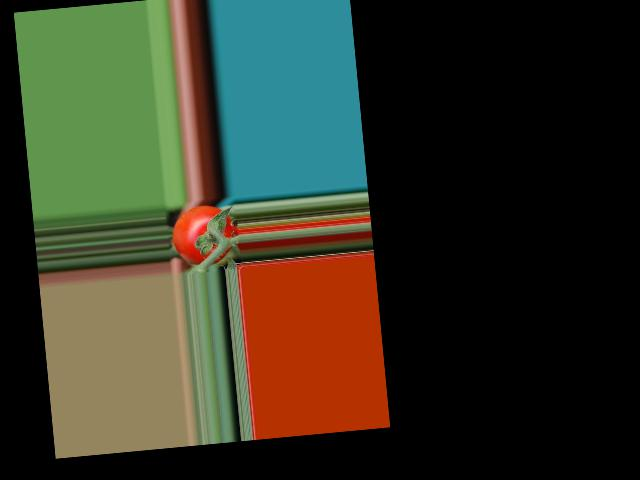tomato: (170, 202, 240, 268)
